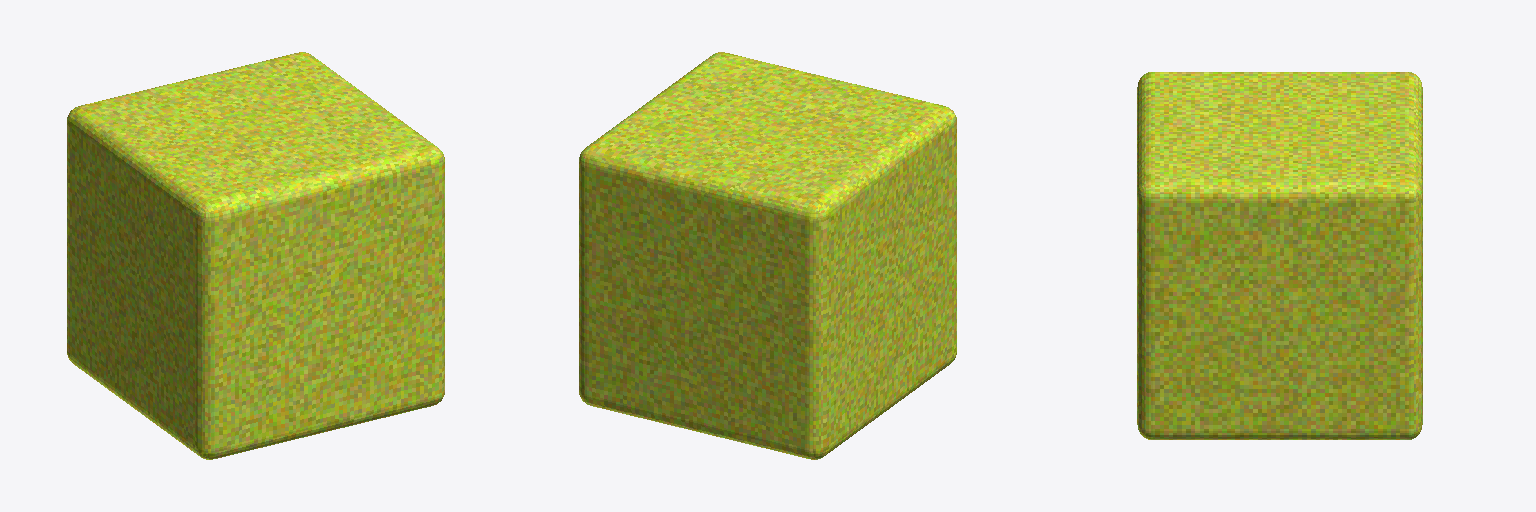
The picture shows the model from 3 angles: view 1: azimuth 30°, elevation 25°; view 2: azimuth 150°, elevation 25°; view 3: azimuth 270°, elevation 25°; orthographic projection.
Visible parts, largest first — view 1: 立方体.002; view 2: 立方体.002; view 3: 立方体.002.
Boxes of the visible parts, x1=… form: 立方体.002: x1=67, y1=52, x2=444, y2=459; 立方体.002: x1=579, y1=52, x2=956, y2=459; 立方体.002: x1=1137, y1=72, x2=1422, y2=439.
Bounding box in the file's own units: 2 × 2 × 2.
1 materials, 1 textured.